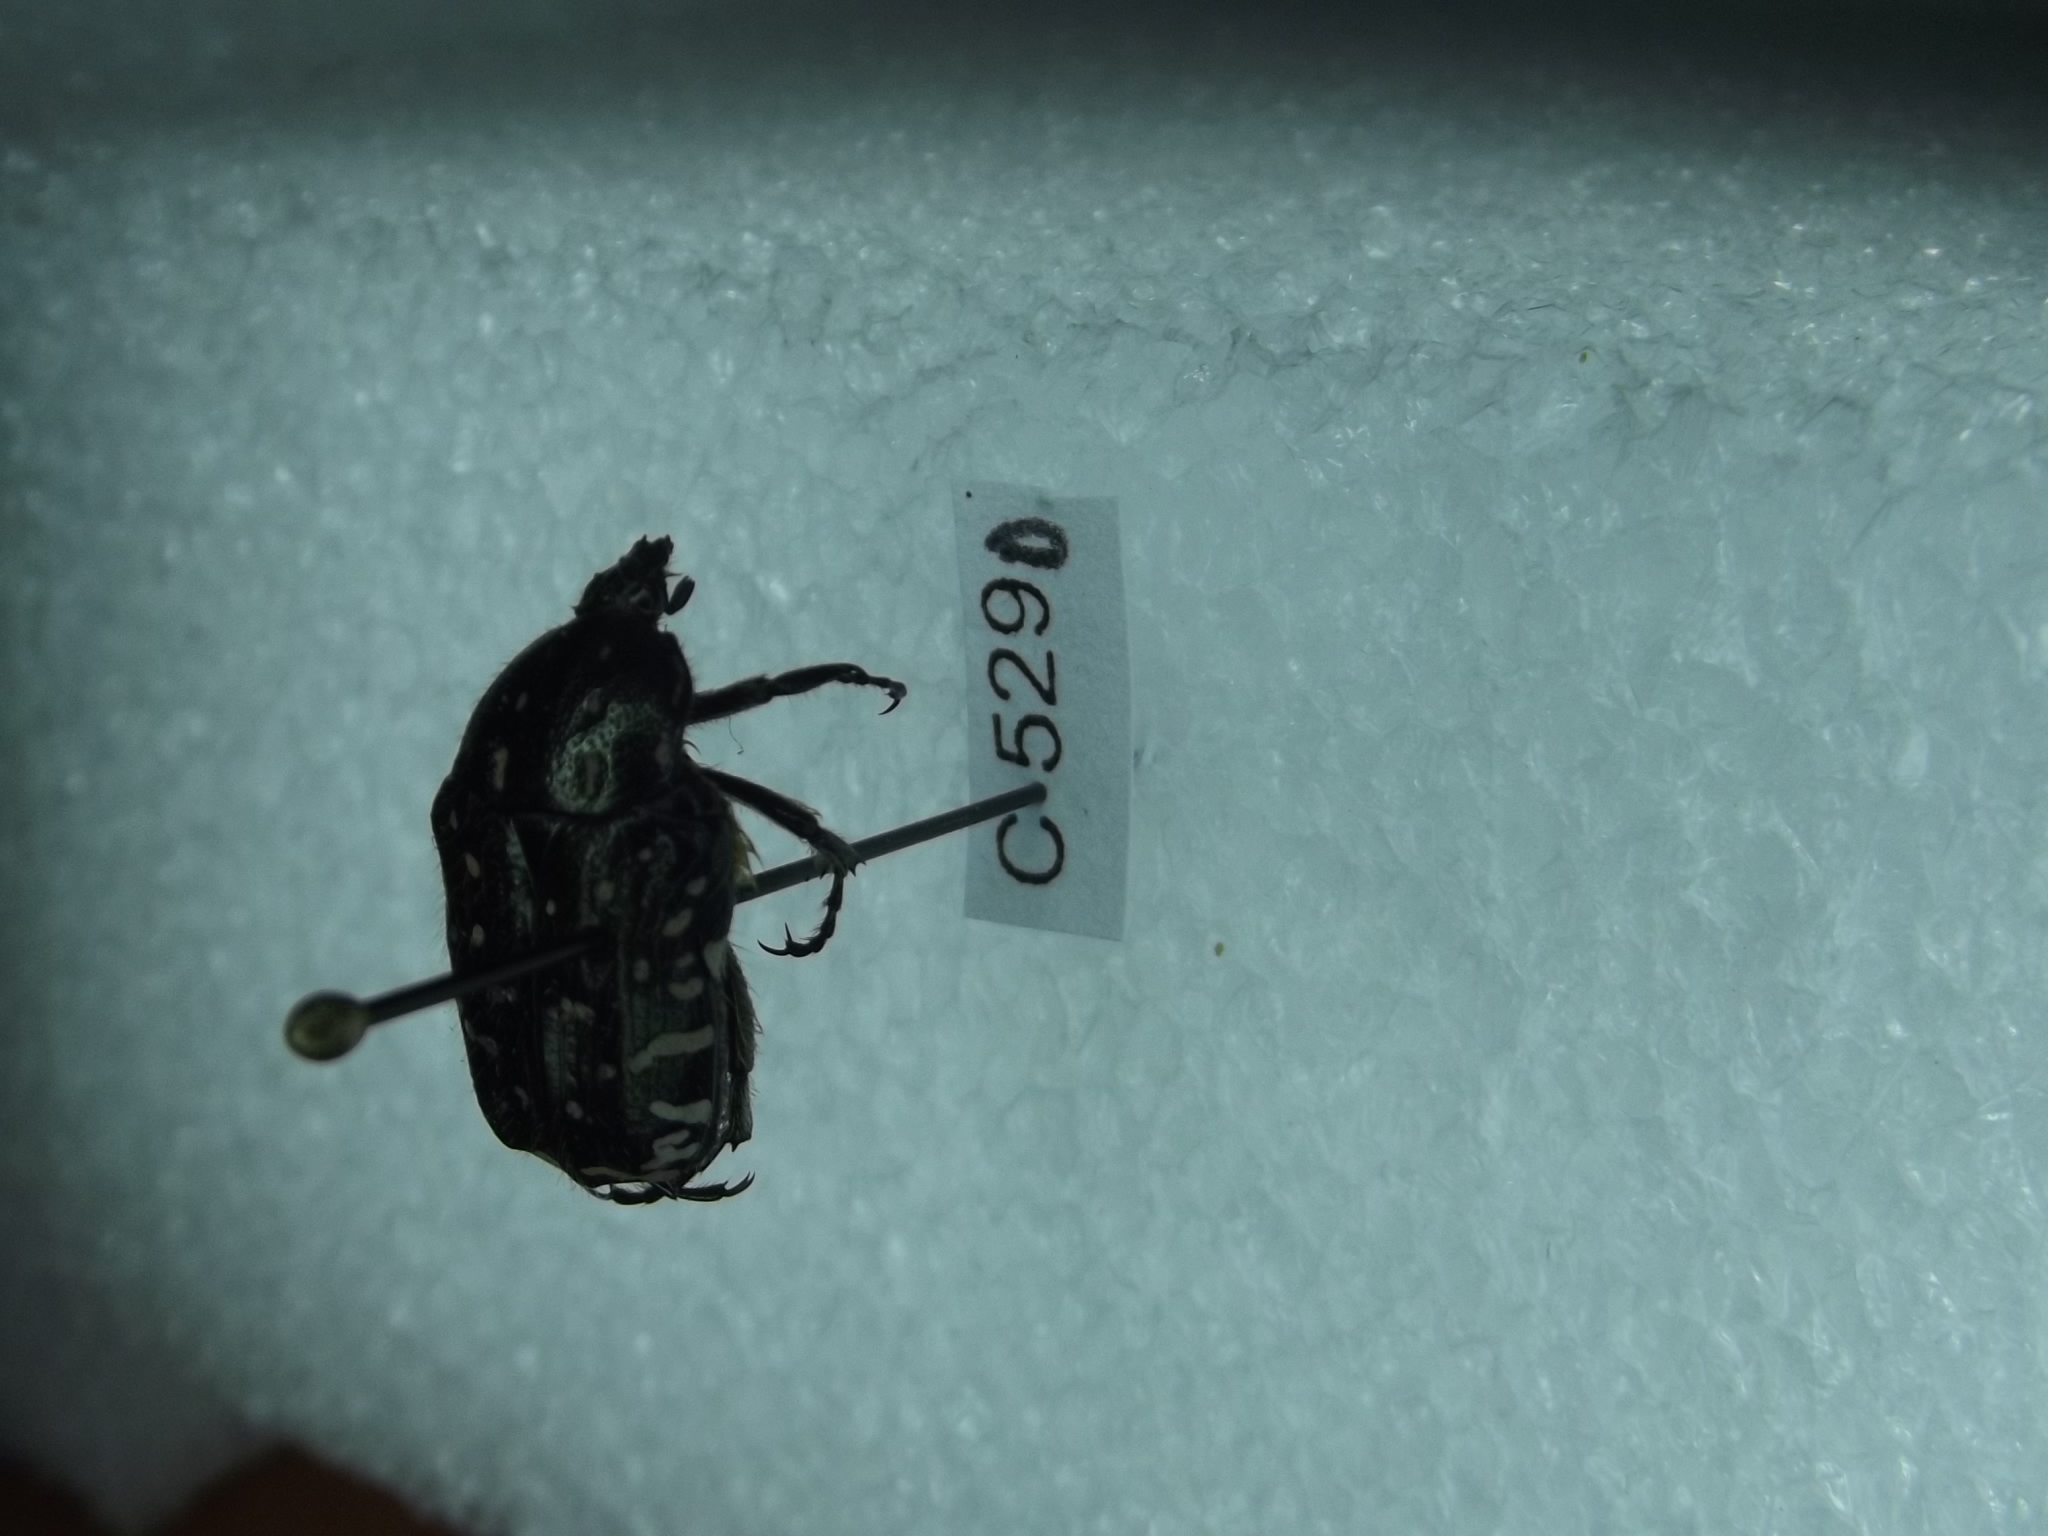Oxythyrea_funesta: (419, 518, 918, 1234)
